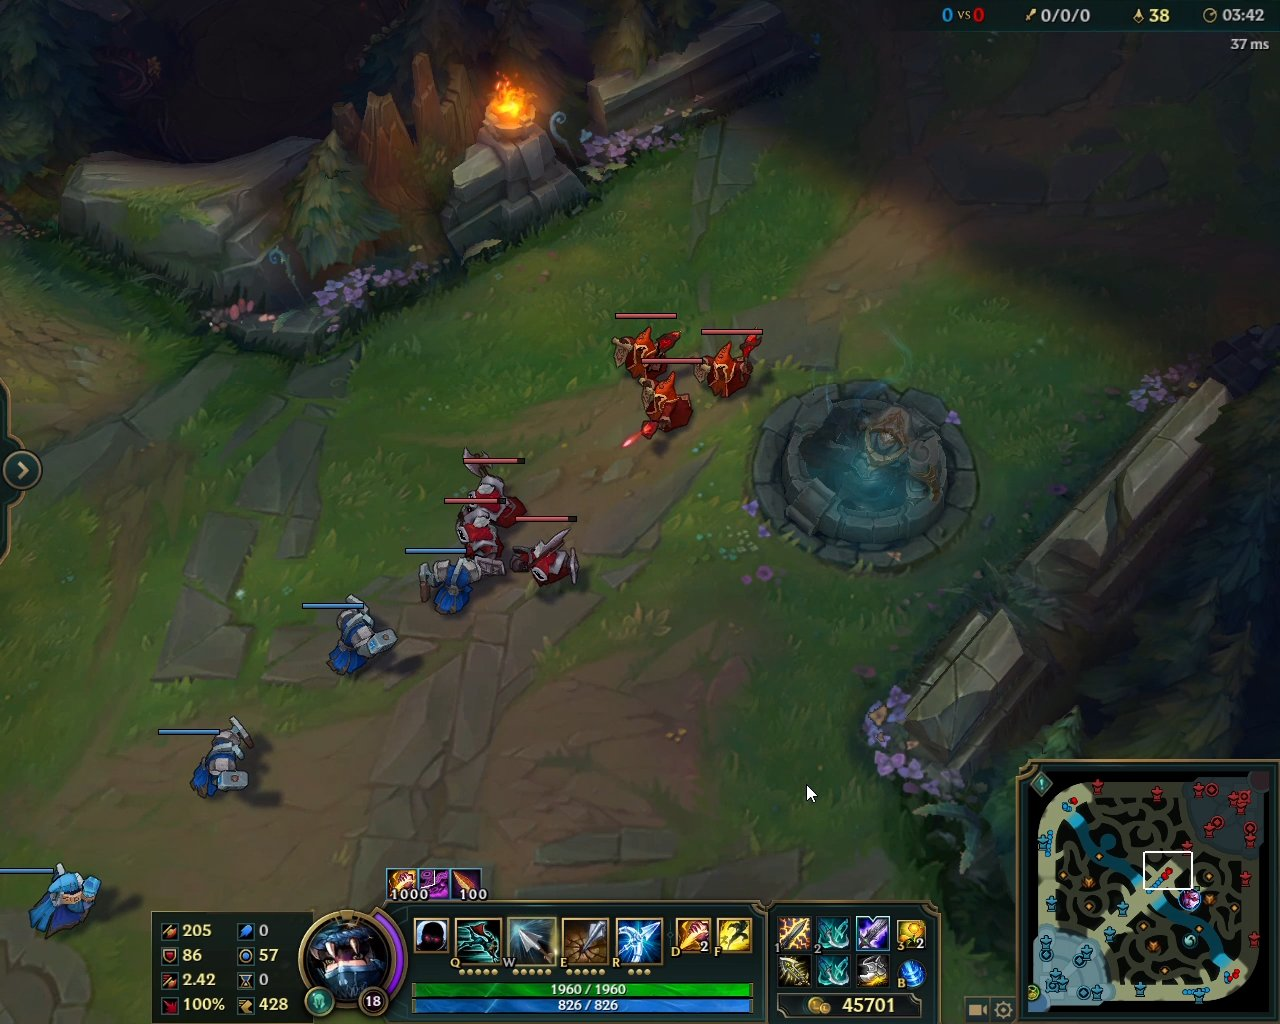EnemyMinion: (691, 322, 769, 401), (632, 358, 702, 444), (460, 448, 532, 523), (513, 515, 584, 591), (445, 498, 509, 581), (612, 312, 686, 381)
